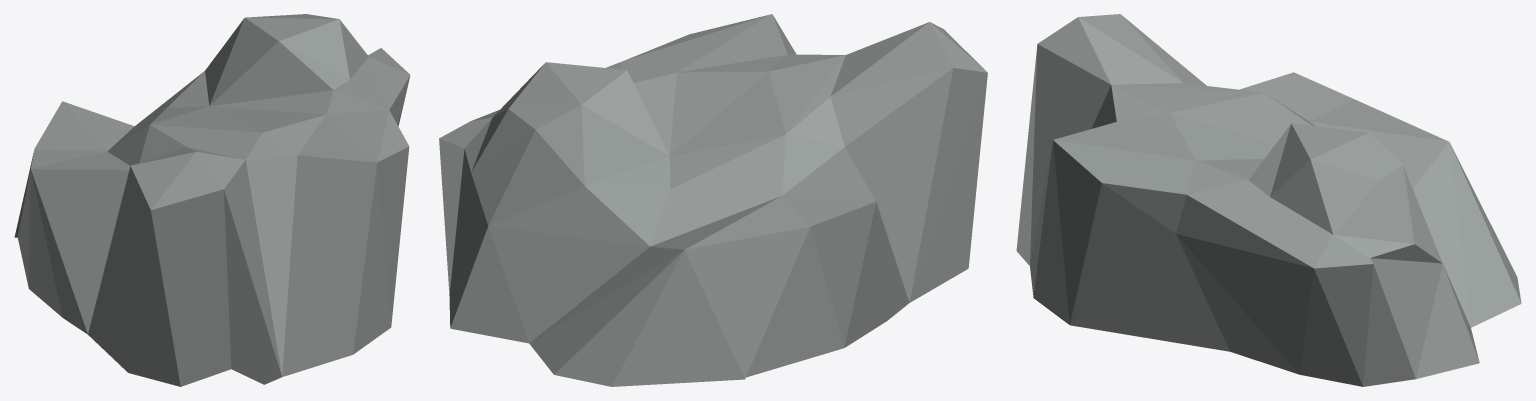
The model's file is rock1.fbx.
The picture shows the model from 3 angles, left to right: view 1: azimuth 30°, elevation 25°; view 2: azimuth 150°, elevation 25°; view 3: azimuth 270°, elevation 25°; orthographic projection. The views are drawn at different scales.
Parts seen in each view (by area): view 1: Rock1; view 2: Rock1; view 3: Rock1.
Boxes of the visible parts, x1=… form: Rock1: x1=14, y1=14, x2=410, y2=386; Rock1: x1=439, y1=14, x2=987, y2=386; Rock1: x1=1016, y1=14, x2=1521, y2=386.
Size of the model in its own units: 1325 by 721 by 1502.
